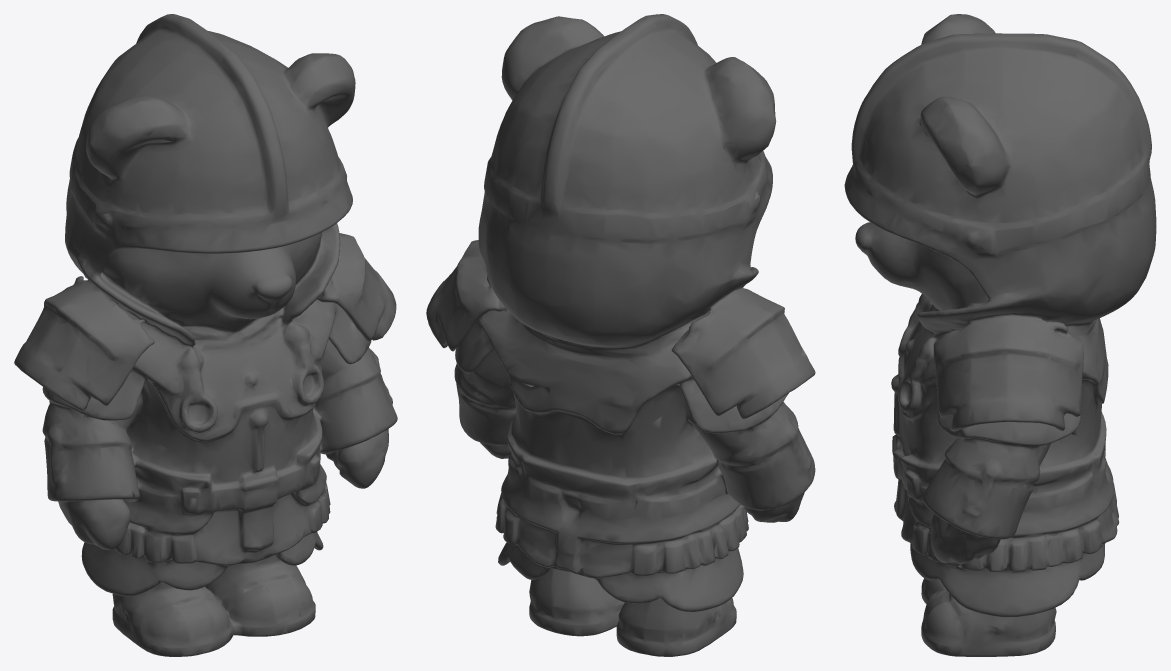
3 renders of one model, left to right at view 1: azimuth 30°, elevation 25°; view 2: azimuth 150°, elevation 25°; view 3: azimuth 270°, elevation 25°, orthographic.
Visible parts, largest first — view 1: mesh_uvwarp; view 2: mesh_uvwarp; view 3: mesh_uvwarp.
Boxes of the visible parts, x1,y1,x2,y2 form: mesh_uvwarp: (14,14,397,656); mesh_uvwarp: (426,14,815,656); mesh_uvwarp: (844,14,1156,656).
Bounding box in the file's own units: 1.3 × 2 × 0.9726.
Materials: 1 (1 with a texture image).
